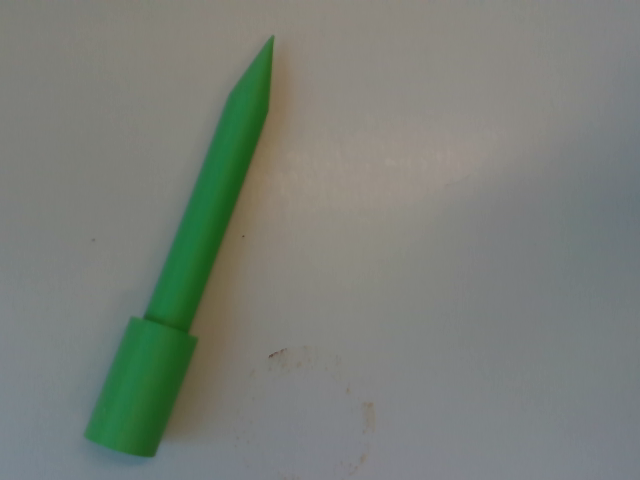Probe: (77, 27, 280, 465)
